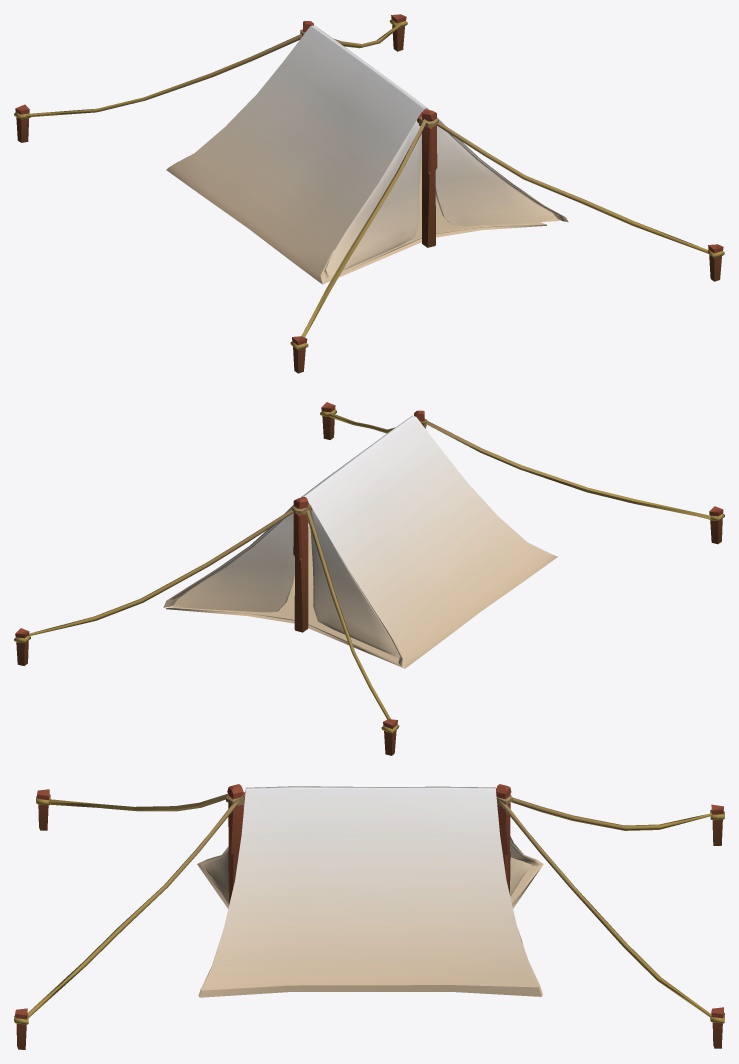
3 renders of one model, top to bottom at view 1: azimuth 30°, elevation 25°; view 2: azimuth 150°, elevation 25°; view 3: azimuth 270°, elevation 25°, orthographic. The views are drawn at different scales.
Parts seen in each view (by area): view 1: Tent1; view 2: Tent1; view 3: Tent1.
Part boxes in pixels (bbox=[...]): Tent1: bbox=[14, 14, 724, 373]; Tent1: bbox=[14, 402, 724, 755]; Tent1: bbox=[14, 784, 724, 1049].
Bounding box in the file's own units: 5.89 × 1.94 × 7.84.
Materials: 1 (1 with a texture image).
